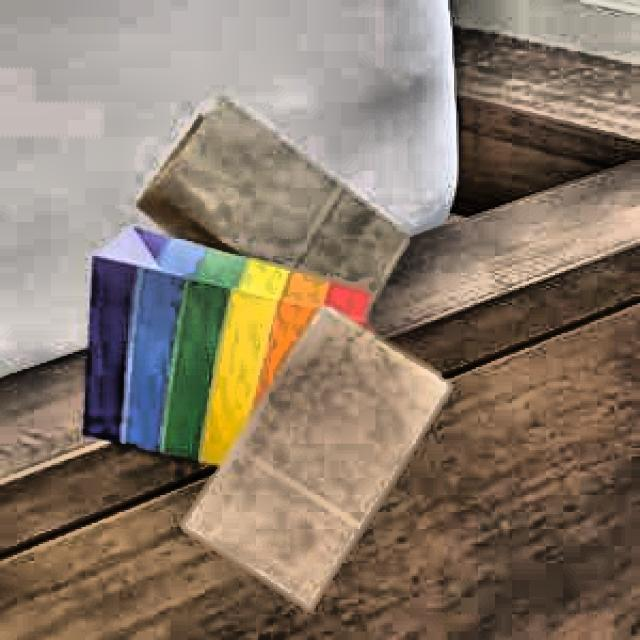Paper-bag: (54, 212, 397, 500), (169, 309, 450, 629), (152, 118, 429, 342)
